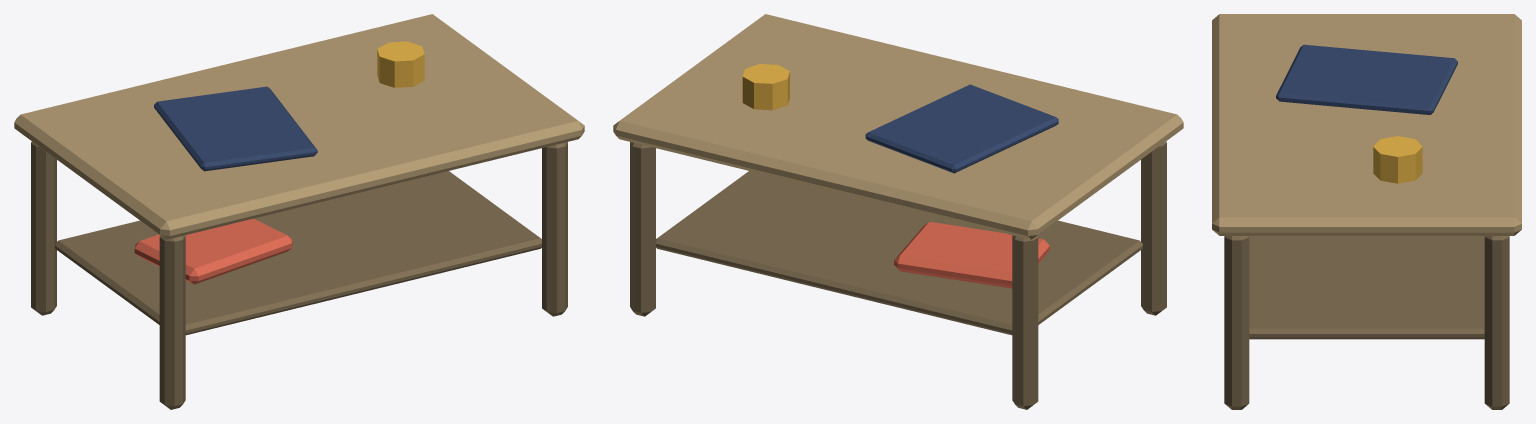
Rendered from coffee_table.glb.
3 renders of one model, left to right at view 1: azimuth 30°, elevation 25°; view 2: azimuth 150°, elevation 25°; view 3: azimuth 270°, elevation 25°, orthographic.
Parts seen in each view (by area): view 1: coffee_table_Body; view 2: coffee_table_Body; view 3: coffee_table_Body.
Part boxes in pixels (bbox=[...]): coffee_table_Body: bbox=[14, 14, 584, 409]; coffee_table_Body: bbox=[613, 14, 1183, 409]; coffee_table_Body: bbox=[1212, 14, 1521, 409].
Bounding box in the file's own units: 0.8 × 0.4 × 0.5.
